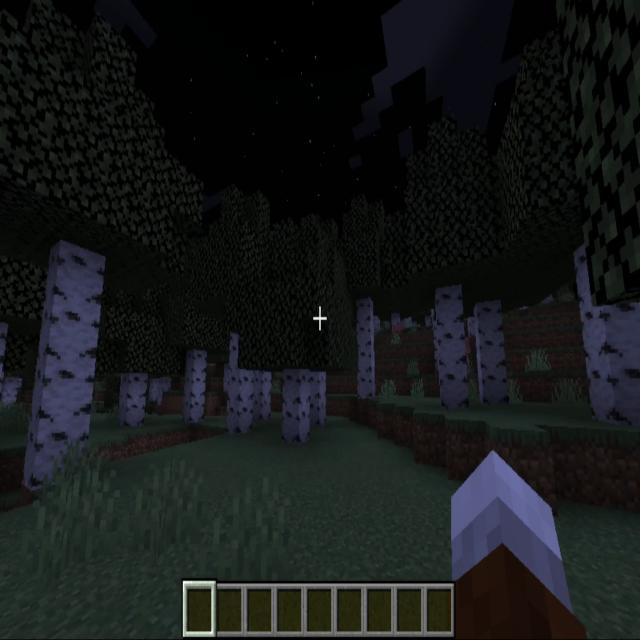Pig: (390, 318, 406, 339), (464, 336, 472, 366)
